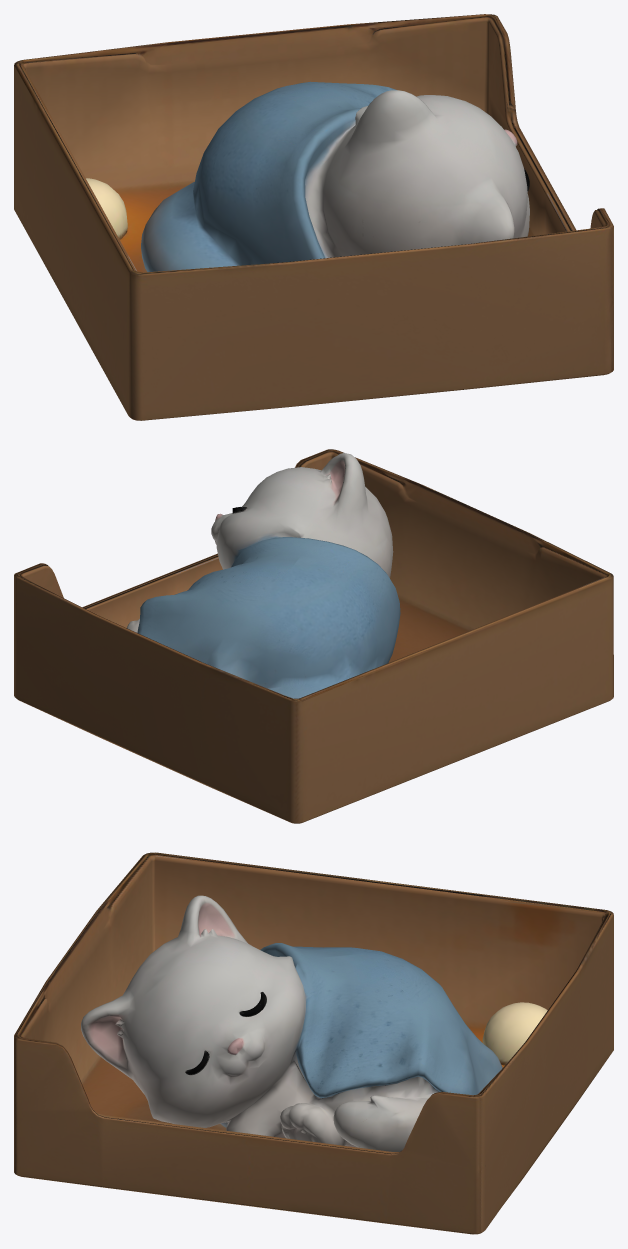
Rendered from figurine-v2-warm-box.glb.
3 renders of one model, top to bottom at view 1: azimuth 30°, elevation 25°; view 2: azimuth 150°, elevation 25°; view 3: azimuth 270°, elevation 25°, orthographic. The views are drawn at different scales.
Parts seen in each view (by area): view 1: tripo_node_12e21045-efe8-4fd8-8006-6bf03ce6dcb7; view 2: tripo_node_12e21045-efe8-4fd8-8006-6bf03ce6dcb7; view 3: tripo_node_12e21045-efe8-4fd8-8006-6bf03ce6dcb7.
Part boxes in pixels (box(x1,y1,x2,y2)): tripo_node_12e21045-efe8-4fd8-8006-6bf03ce6dcb7: box(14, 14, 613, 420); tripo_node_12e21045-efe8-4fd8-8006-6bf03ce6dcb7: box(14, 449, 613, 823); tripo_node_12e21045-efe8-4fd8-8006-6bf03ce6dcb7: box(14, 852, 613, 1234).
Size of the model in its own units: 1.15 by 0.4927 by 1.19.
1 material, 1 textured.
